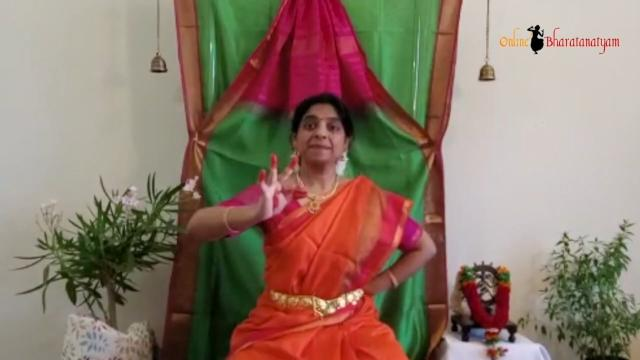hansaasya: (250, 145, 320, 237)
